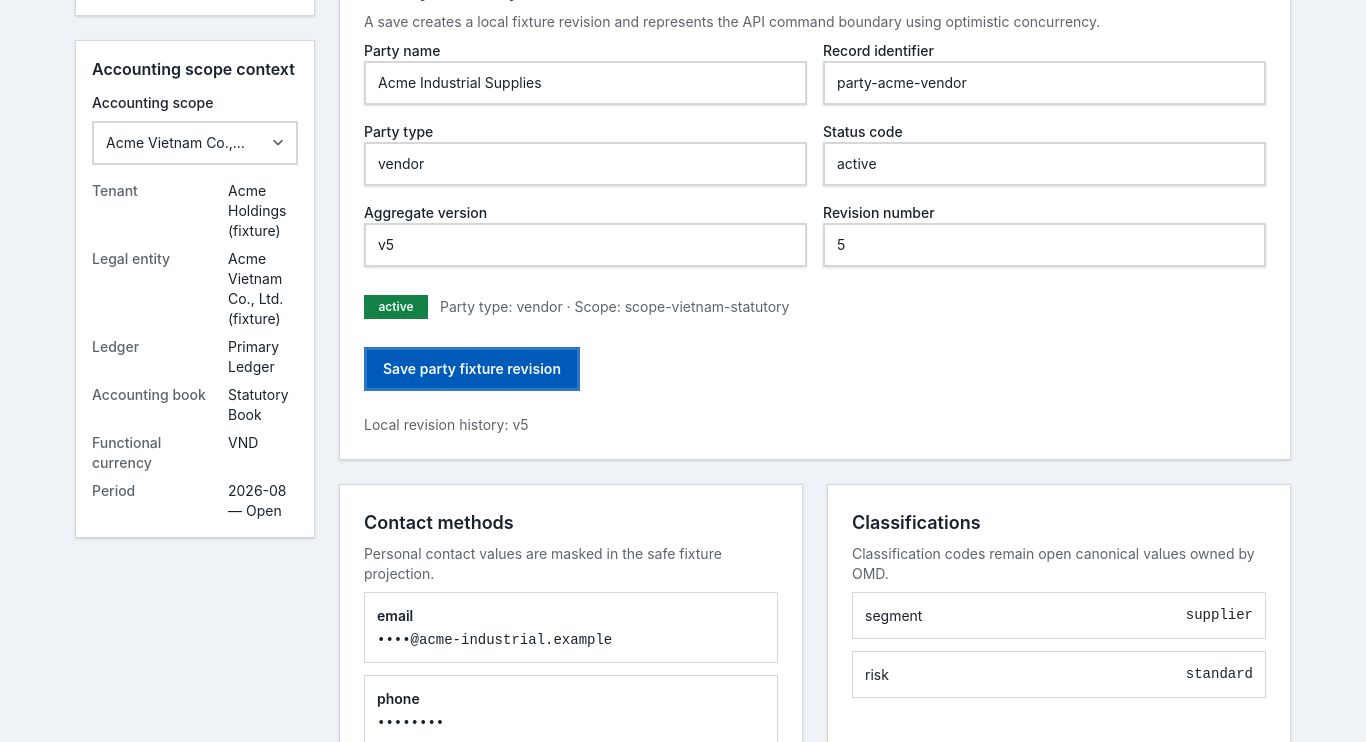
Scenario: application router › supports the Party maintenance screen with safe bank-control data
(page scrolled)
Expected: the field showing "Acme Industrial Supplies" is shown, left=364, top=61, right=807, bottom=105
Click the button "Save party fixture revision" at (472, 369), box left=364, top=347, right=580, bottom=391
(page scrolled)
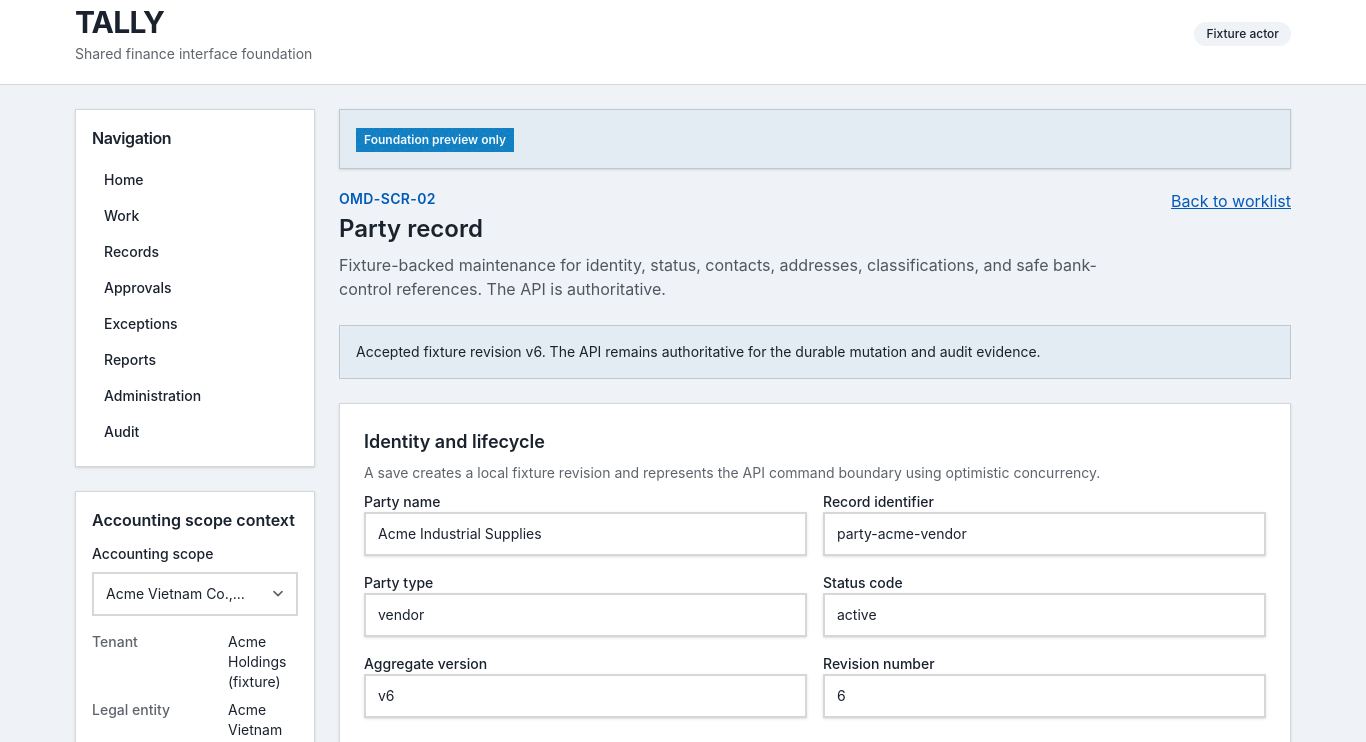
Now the text "Accepted fixture revision v6" is shown, box left=356, top=343, right=1041, bottom=360
